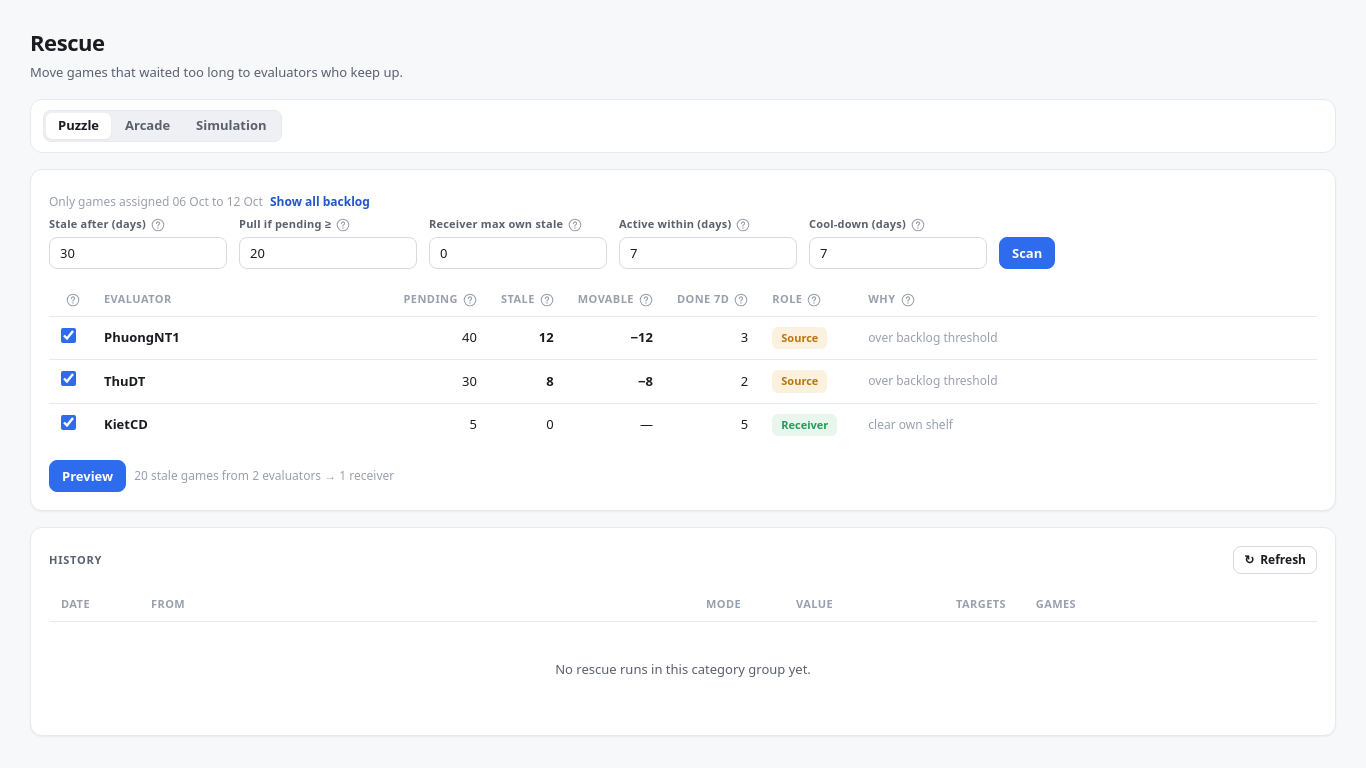
Scenario: team-ops deep links › disables "Show all backlog" while a Preview is running
Expected: the text "Only games assigned 06 Oct to 12 Oct Show all backlog" is shown, [49,188,377,216]
Expected: the button "Show all backlog" is enabled, [263,188,377,216]
Step 1. Click the button "Preview" → point(88, 476), box [49,460,126,492]
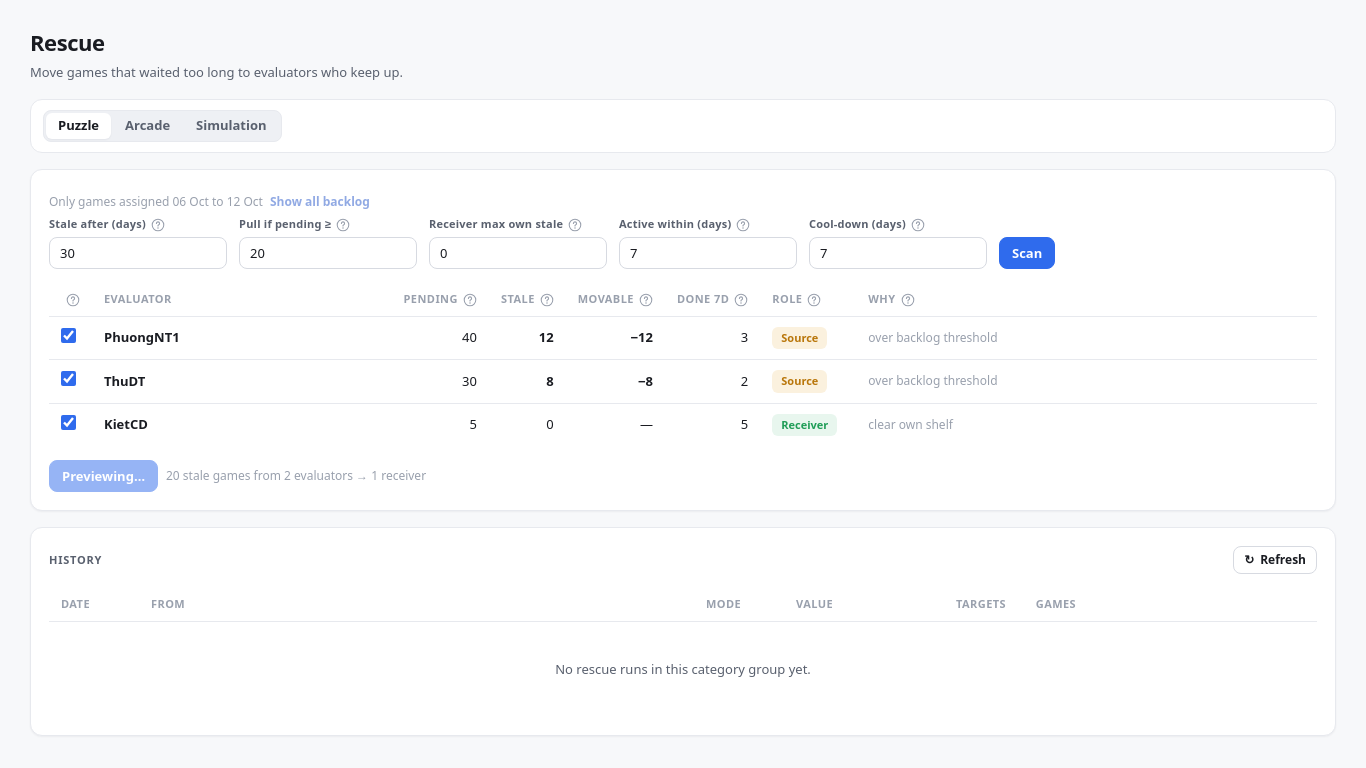
Expected: the button "Show all backlog" is disabled, [263,188,377,216]
